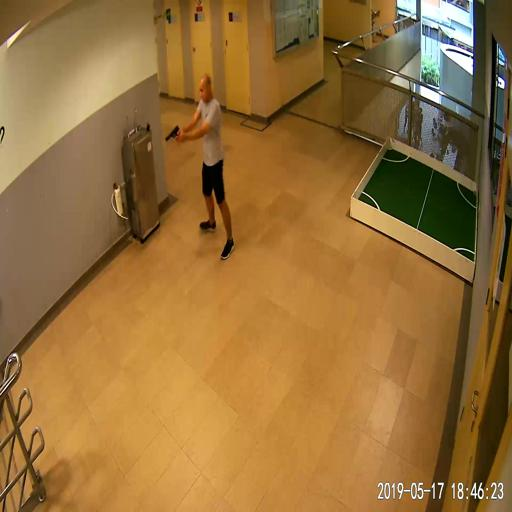pistol: (165, 125, 181, 142)
